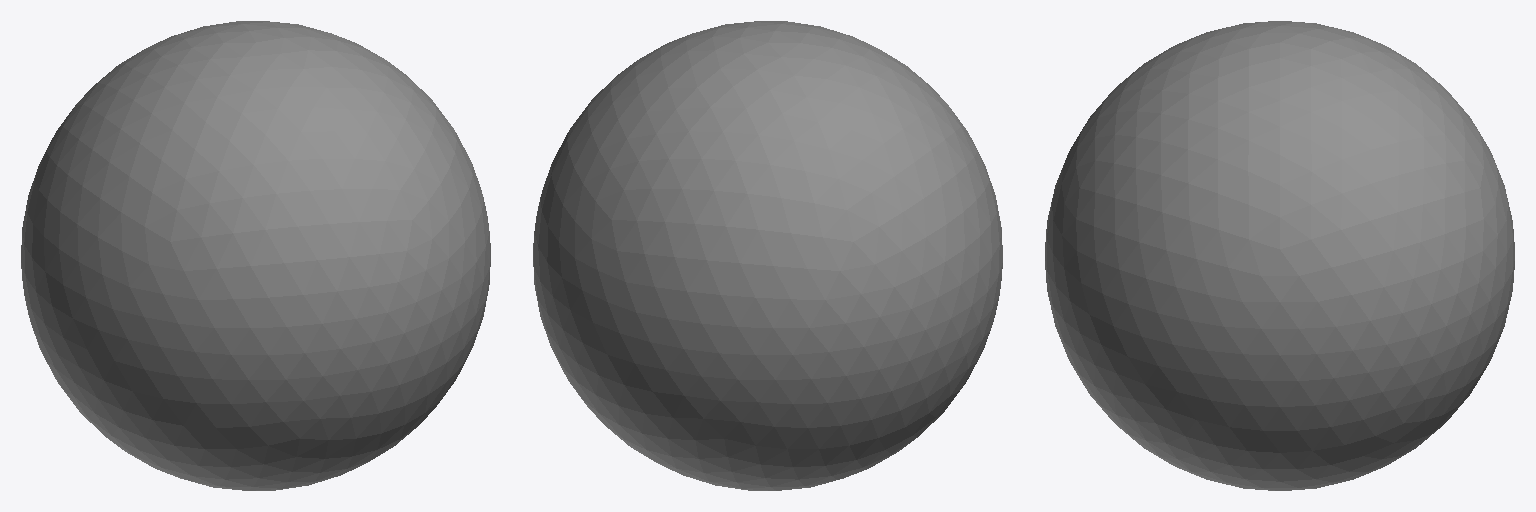
The picture shows the model from 3 angles: view 1: azimuth 30°, elevation 25°; view 2: azimuth 150°, elevation 25°; view 3: azimuth 270°, elevation 25°; orthographic projection.
Visible parts, largest first — view 1: GeoSphere001; view 2: GeoSphere001; view 3: GeoSphere001.
Part boxes in pixels (bbox=[...]): GeoSphere001: bbox=[21, 21, 490, 490]; GeoSphere001: bbox=[533, 21, 1002, 490]; GeoSphere001: bbox=[1045, 21, 1514, 490].
Bounding box in the file's own units: 80.17 × 80.17 × 80.17.